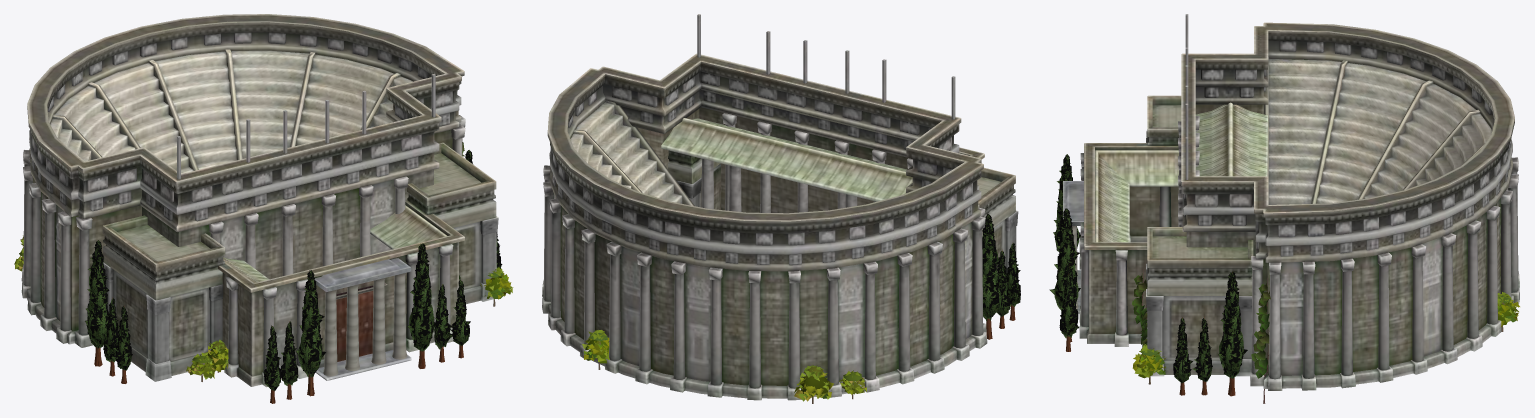
The model's file is 82-wonder-poseidon.glb.
3 views of the same model, side by side, from view 1: azimuth 30°, elevation 25°; view 2: azimuth 150°, elevation 25°; view 3: azimuth 270°, elevation 25° (orthographic).
Bounding box in the file's own units: 16.31 × 9.13 × 16.62.
10 materials, 10 textured.
